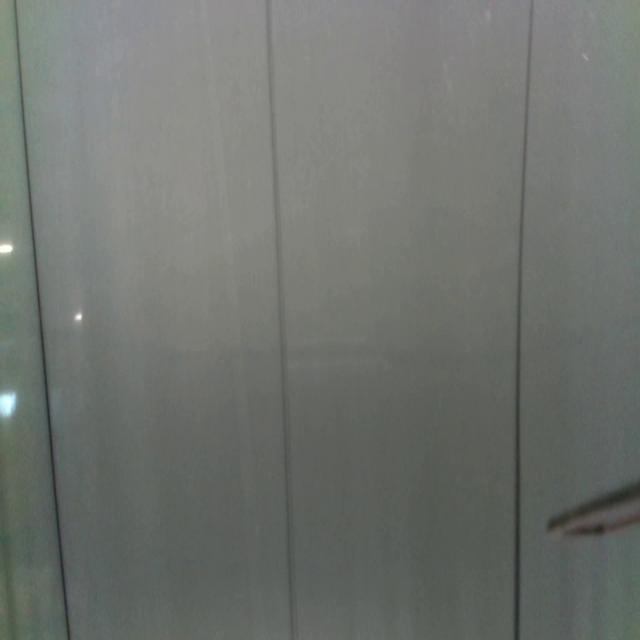crease: (15, 0, 70, 640), (265, 0, 297, 640), (512, 1, 535, 640)
